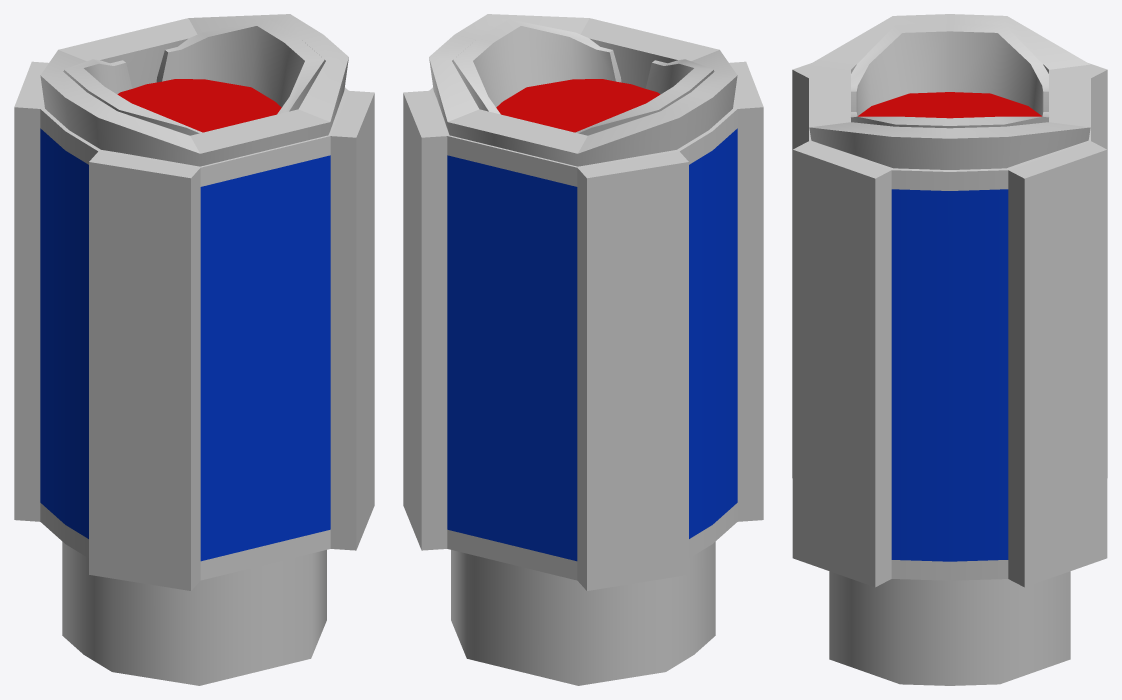
File: VR_Emitter.fbx
The picture shows the model from 3 angles, left to right: view 1: azimuth 30°, elevation 25°; view 2: azimuth 150°, elevation 25°; view 3: azimuth 270°, elevation 25°; orthographic projection.
Parts seen in each view (by area): view 1: Final; view 2: Final; view 3: Final.
Boxes of the visible parts, x1,y1,x2,y2 form: Final: (14, 14, 374, 685); Final: (403, 14, 763, 685); Final: (792, 14, 1107, 685).
Size of the model in its own units: 49.46 by 93.22 by 47.79.
